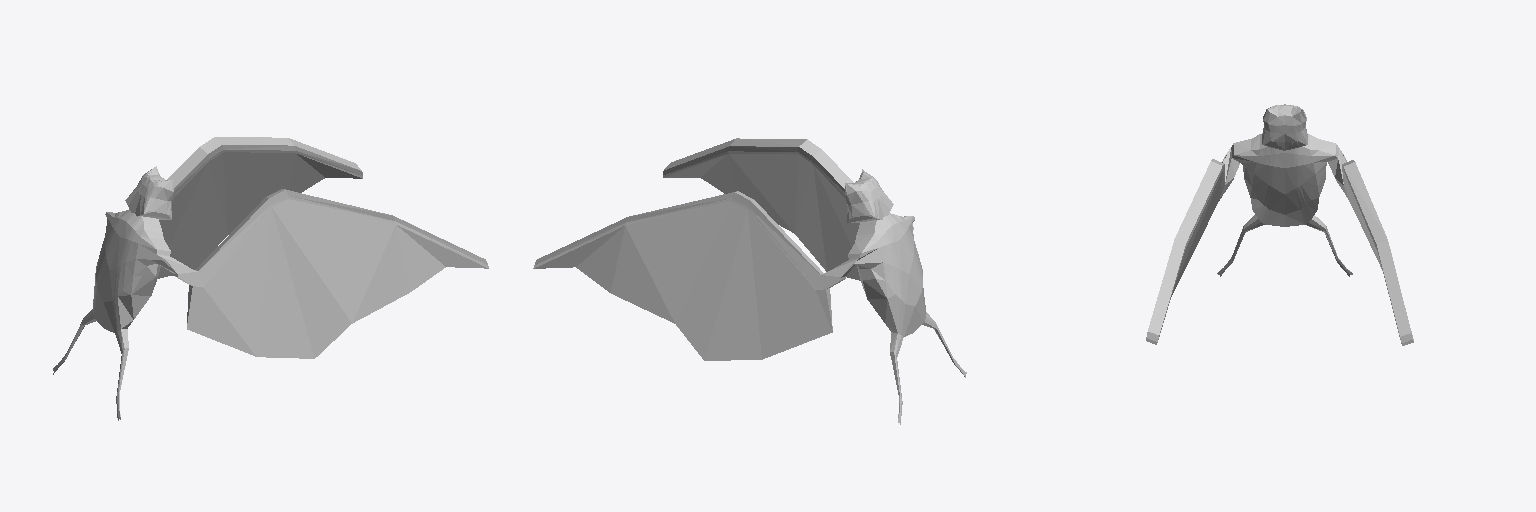
Rendered from Enemigo122.obj.
3 views of the same model, side by side, from view 1: azimuth 30°, elevation 25°; view 2: azimuth 150°, elevation 25°; view 3: azimuth 270°, elevation 25° (orthographic).
Visible parts, largest first — view 1: Plano; view 2: Plano; view 3: Plano.
Part boxes in pixels (left/top/right/bottom): Plano: left=53, top=137, right=488, bottom=420; Plano: left=533, top=138, right=966, bottom=424; Plano: left=1146, top=104, right=1413, bottom=345.
Bounding box in the file's own units: 1.2 × 0.7048 × 0.829.